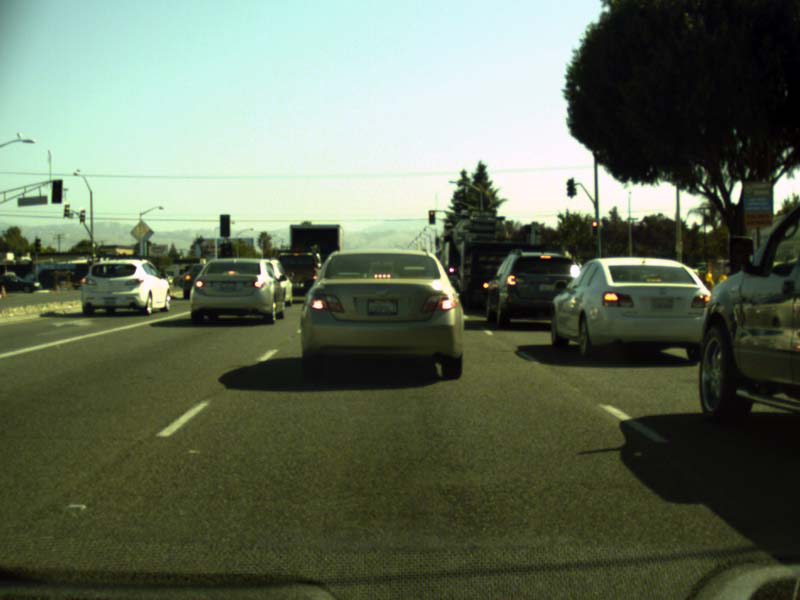Green: (222, 244, 230, 263)
Red: (428, 210, 434, 223), (592, 222, 596, 234)
